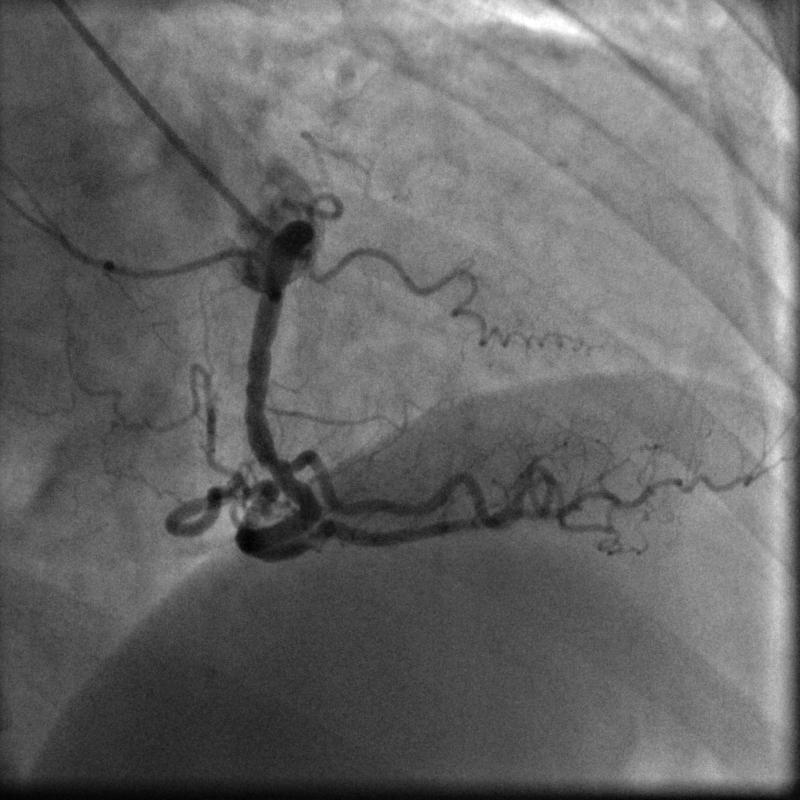Stenosis: (250, 451, 301, 487)
